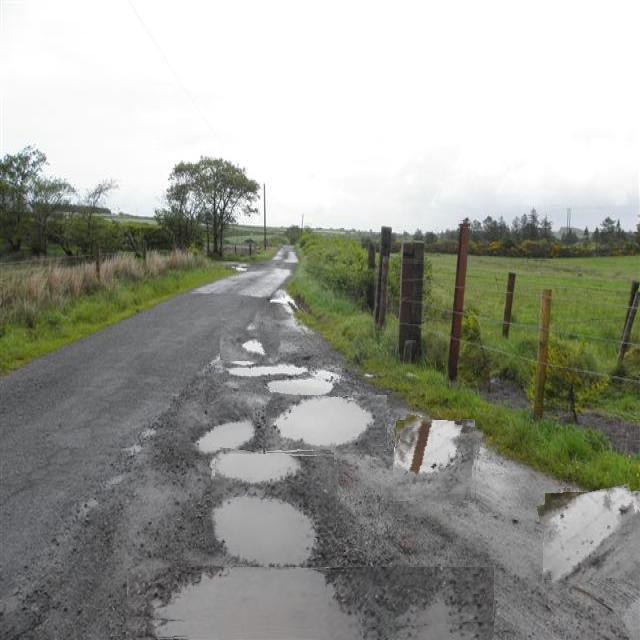Pothole: (126, 567, 495, 640), (207, 450, 337, 575), (540, 488, 640, 584), (266, 395, 388, 456), (394, 418, 479, 504), (178, 398, 255, 457), (220, 327, 280, 363)
